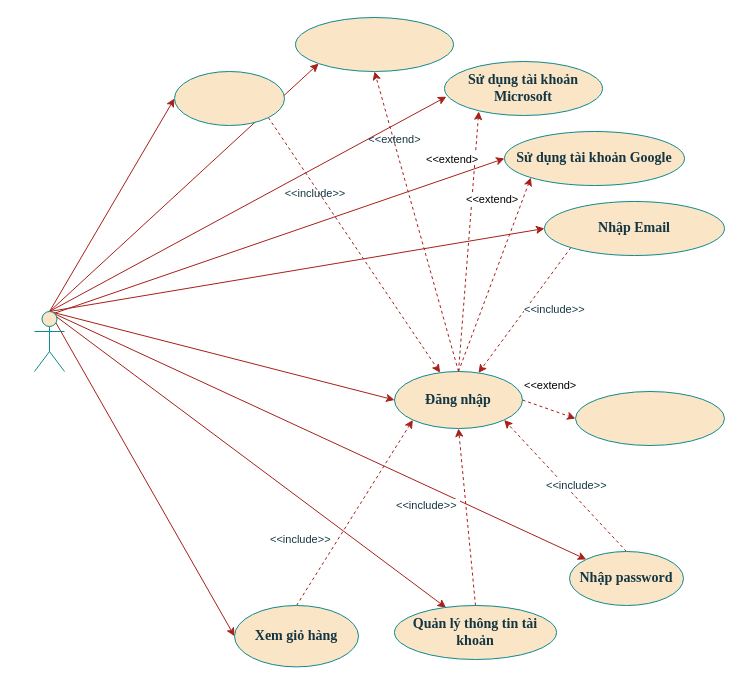
This 742x685 diagram has some shape labels left out. The shapes that lost their labels are listed below. From the top down, each one's box as (x1, y1, x2, y2) in pixels, then its label:
(294, 16, 454, 72): Reset Password
(174, 70, 284, 126): Đăng kí
(34, 310, 64, 372): User Người dùng
(574, 390, 724, 446): Sử dụng tài khoản Facebook
